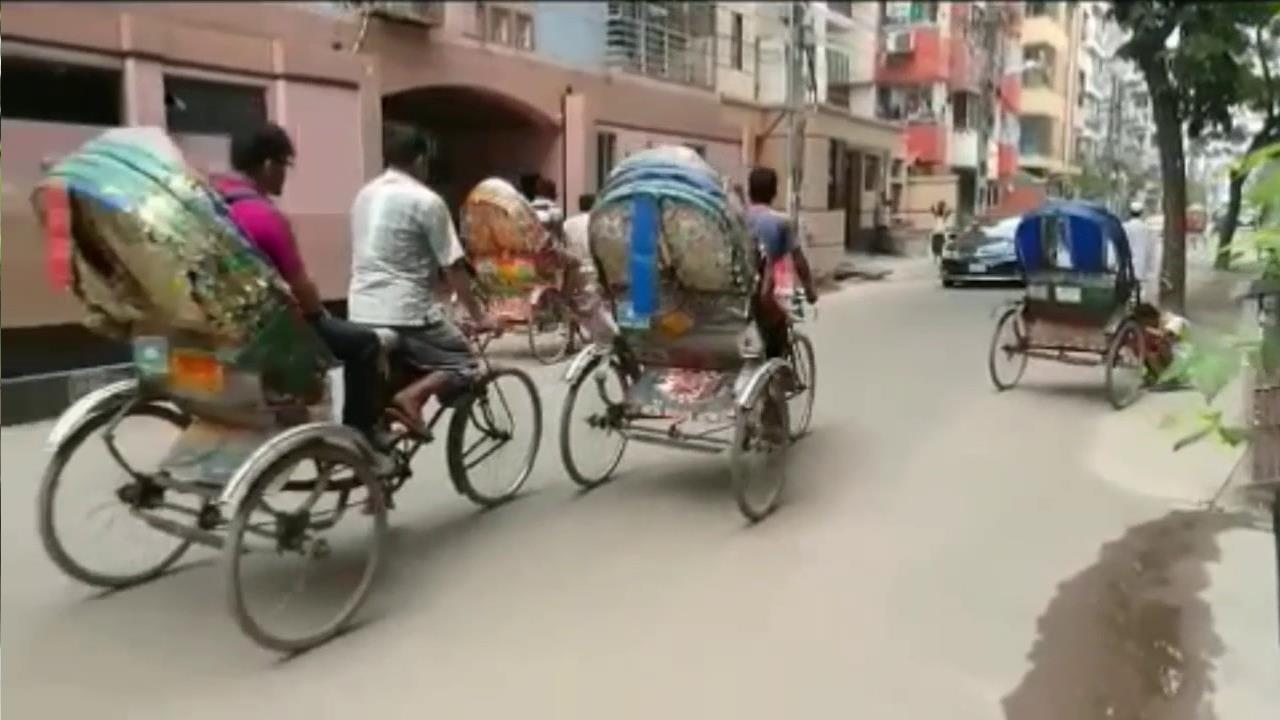Rickshaw: (25, 114, 545, 647), (580, 143, 819, 525), (987, 185, 1156, 418), (447, 160, 586, 351)
